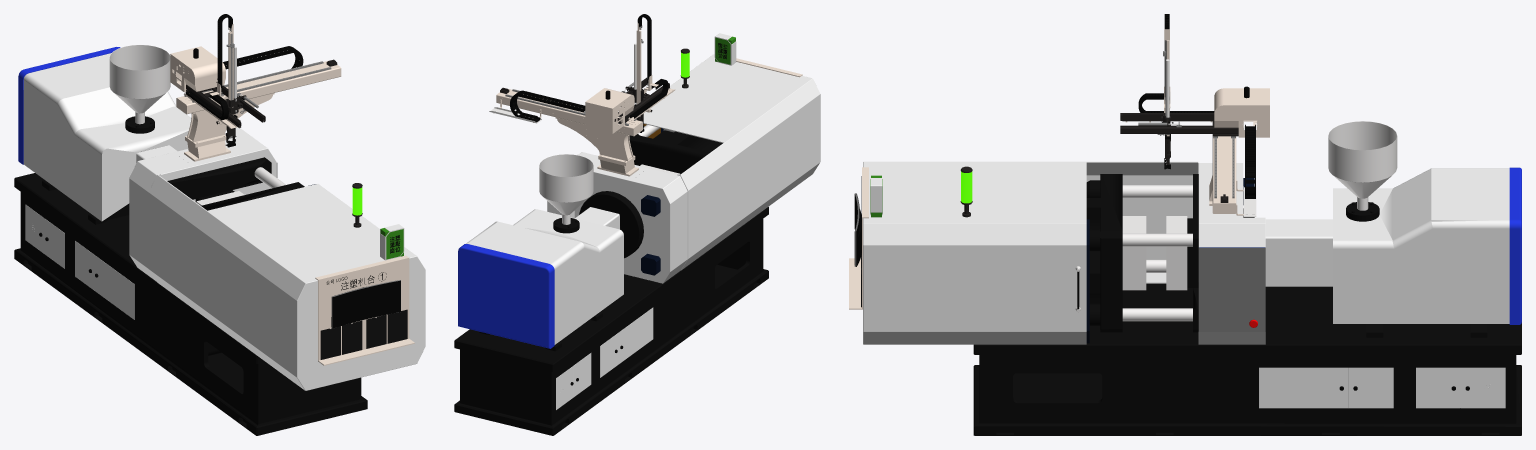
File: three-axis-robot.FBX
The picture shows the model from 3 angles, left to right: view 1: azimuth 30°, elevation 25°; view 2: azimuth 150°, elevation 25°; view 3: azimuth 270°, elevation 25°; orthographic projection. The views are drawn at different scales.
Parts seen in each view (by area): view 1: Obj3d66-18592180-11-78, Obj3d66-18592180-9-101, Obj3d66-18592180-7-57, Obj3d66-18592180-2-975, Obj3d66-18592180-100-835, Obj3d66-18592180-95-405, Obj3d66-18592180-25-333, Obj3d66-18592180-16-483, Obj3d66-18592180-8-743, Obj3d66-18592180-101-308, Obj3d66-18592180-36-954, Obj3d66-18592180-17-489 (+11 smaller); view 2: Obj3d66-18592180-9-101, Obj3d66-18592180-11-78, Obj3d66-18592180-7-57, Obj3d66-18592180-17-489, Obj3d66-18592180-2-975, Obj3d66-18592180-95-405, Obj3d66-18592180-25-333, Obj3d66-18592180-16-483, Obj3d66-18592180-10-853, Obj3d66-18592180-22-482, Obj3d66-18592180-36-954, Obj3d66-18592180-61-149 (+6 smaller); view 3: Obj3d66-18592180-9-101, Obj3d66-18592180-11-78, Obj3d66-18592180-7-57, Obj3d66-18592180-25-333, Obj3d66-18592180-10-853, Obj3d66-18592180-6-935, Obj3d66-18592180-16-483, Obj3d66-18592180-2-975, Obj3d66-18592180-119-957, Obj3d66-18592180-12-436, Obj3d66-18592180-120-31, Obj3d66-18592180-36-954 (+7 smaller).
Boxes of the visible parts, left/top/right/bottom form: Obj3d66-18592180-11-78: left=148, top=174, right=425, bottom=390; Obj3d66-18592180-9-101: left=14, top=173, right=367, bottom=435; Obj3d66-18592180-7-57: left=23, top=53, right=191, bottom=221; Obj3d66-18592180-2-975: left=129, top=127, right=276, bottom=281; Obj3d66-18592180-100-835: left=315, top=255, right=414, bottom=365; Obj3d66-18592180-95-405: left=176, top=60, right=341, bottom=161; Obj3d66-18592180-25-333: left=25, top=204, right=134, bottom=319; Obj3d66-18592180-16-483: left=109, top=44, right=170, bottom=113; Obj3d66-18592180-8-743: left=167, top=157, right=271, bottom=201; Obj3d66-18592180-101-308: left=333, top=281, right=400, bottom=328; Obj3d66-18592180-36-954: left=170, top=46, right=225, bottom=92; Obj3d66-18592180-17-489: left=18, top=47, right=120, bottom=164; Obj3d66-18592180-9-101: left=454, top=207, right=768, bottom=435; Obj3d66-18592180-11-78: left=636, top=54, right=820, bottom=270; Obj3d66-18592180-7-57: left=466, top=209, right=623, bottom=344; Obj3d66-18592180-17-489: left=458, top=244, right=554, bottom=348; Obj3d66-18592180-2-975: left=547, top=152, right=687, bottom=283; Obj3d66-18592180-95-405: left=496, top=89, right=642, bottom=176; Obj3d66-18592180-25-333: left=556, top=307, right=653, bottom=409; Obj3d66-18592180-16-483: left=539, top=154, right=593, bottom=215; Obj3d66-18592180-10-853: left=629, top=130, right=722, bottom=174; Obj3d66-18592180-22-482: left=579, top=191, right=643, bottom=258; Obj3d66-18592180-36-954: left=585, top=88, right=634, bottom=133; Obj3d66-18592180-61-149: left=510, top=90, right=585, bottom=122; Obj3d66-18592180-9-101: left=973, top=283, right=1521, bottom=435; Obj3d66-18592180-11-78: left=863, top=161, right=1198, bottom=344; Obj3d66-18592180-7-57: left=1333, top=168, right=1509, bottom=323; Obj3d66-18592180-25-333: left=1259, top=367, right=1505, bottom=408; Obj3d66-18592180-10-853: left=1086, top=174, right=1122, bottom=332; Obj3d66-18592180-6-935: left=1265, top=219, right=1332, bottom=286; Obj3d66-18592180-16-483: left=1328, top=121, right=1397, bottom=198; Obj3d66-18592180-2-975: left=1198, top=163, right=1265, bottom=344; Obj3d66-18592180-119-957: left=1199, top=282, right=1265, bottom=331; Obj3d66-18592180-12-436: left=1122, top=185, right=1192, bottom=321; Obj3d66-18592180-120-31: left=1198, top=247, right=1265, bottom=282; Obj3d66-18592180-36-954: left=1214, top=88, right=1269, bottom=137.
Size of the model in its own units: 2192 by 3632 by 5685.
